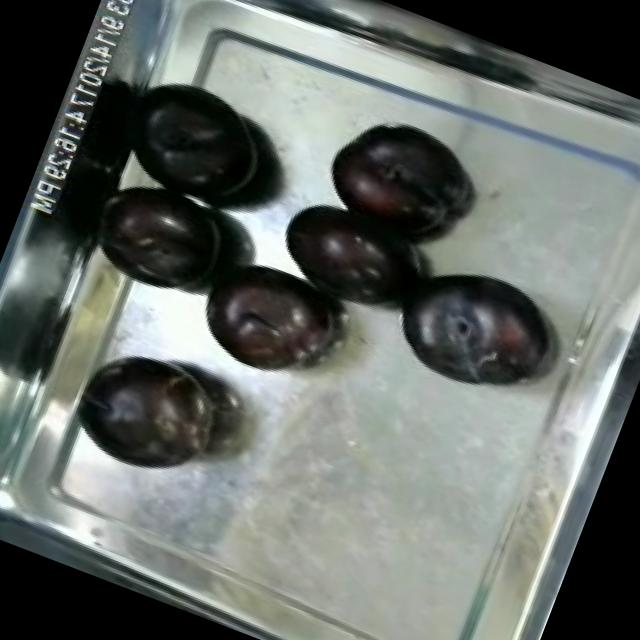Fruit: (388, 245, 570, 412), (114, 60, 294, 228), (58, 328, 240, 494), (174, 240, 359, 402), (307, 95, 484, 254), (72, 166, 246, 323), (256, 181, 432, 330)
